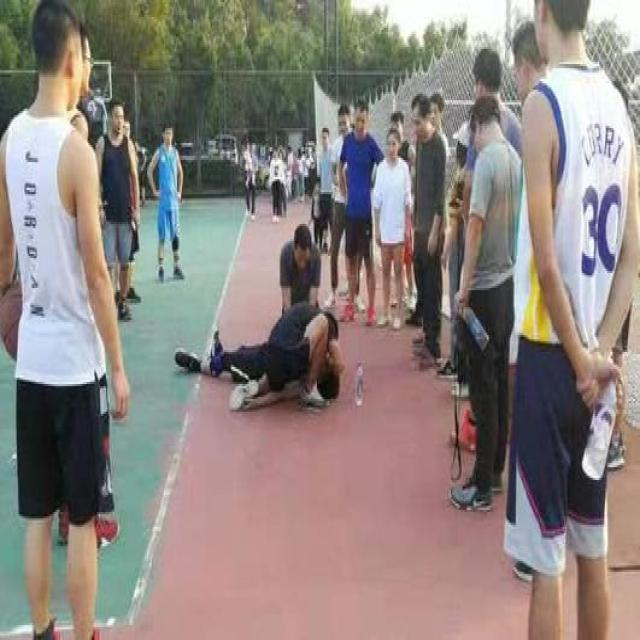10-: (0, 0, 638, 638)
down: (172, 320, 342, 403)
